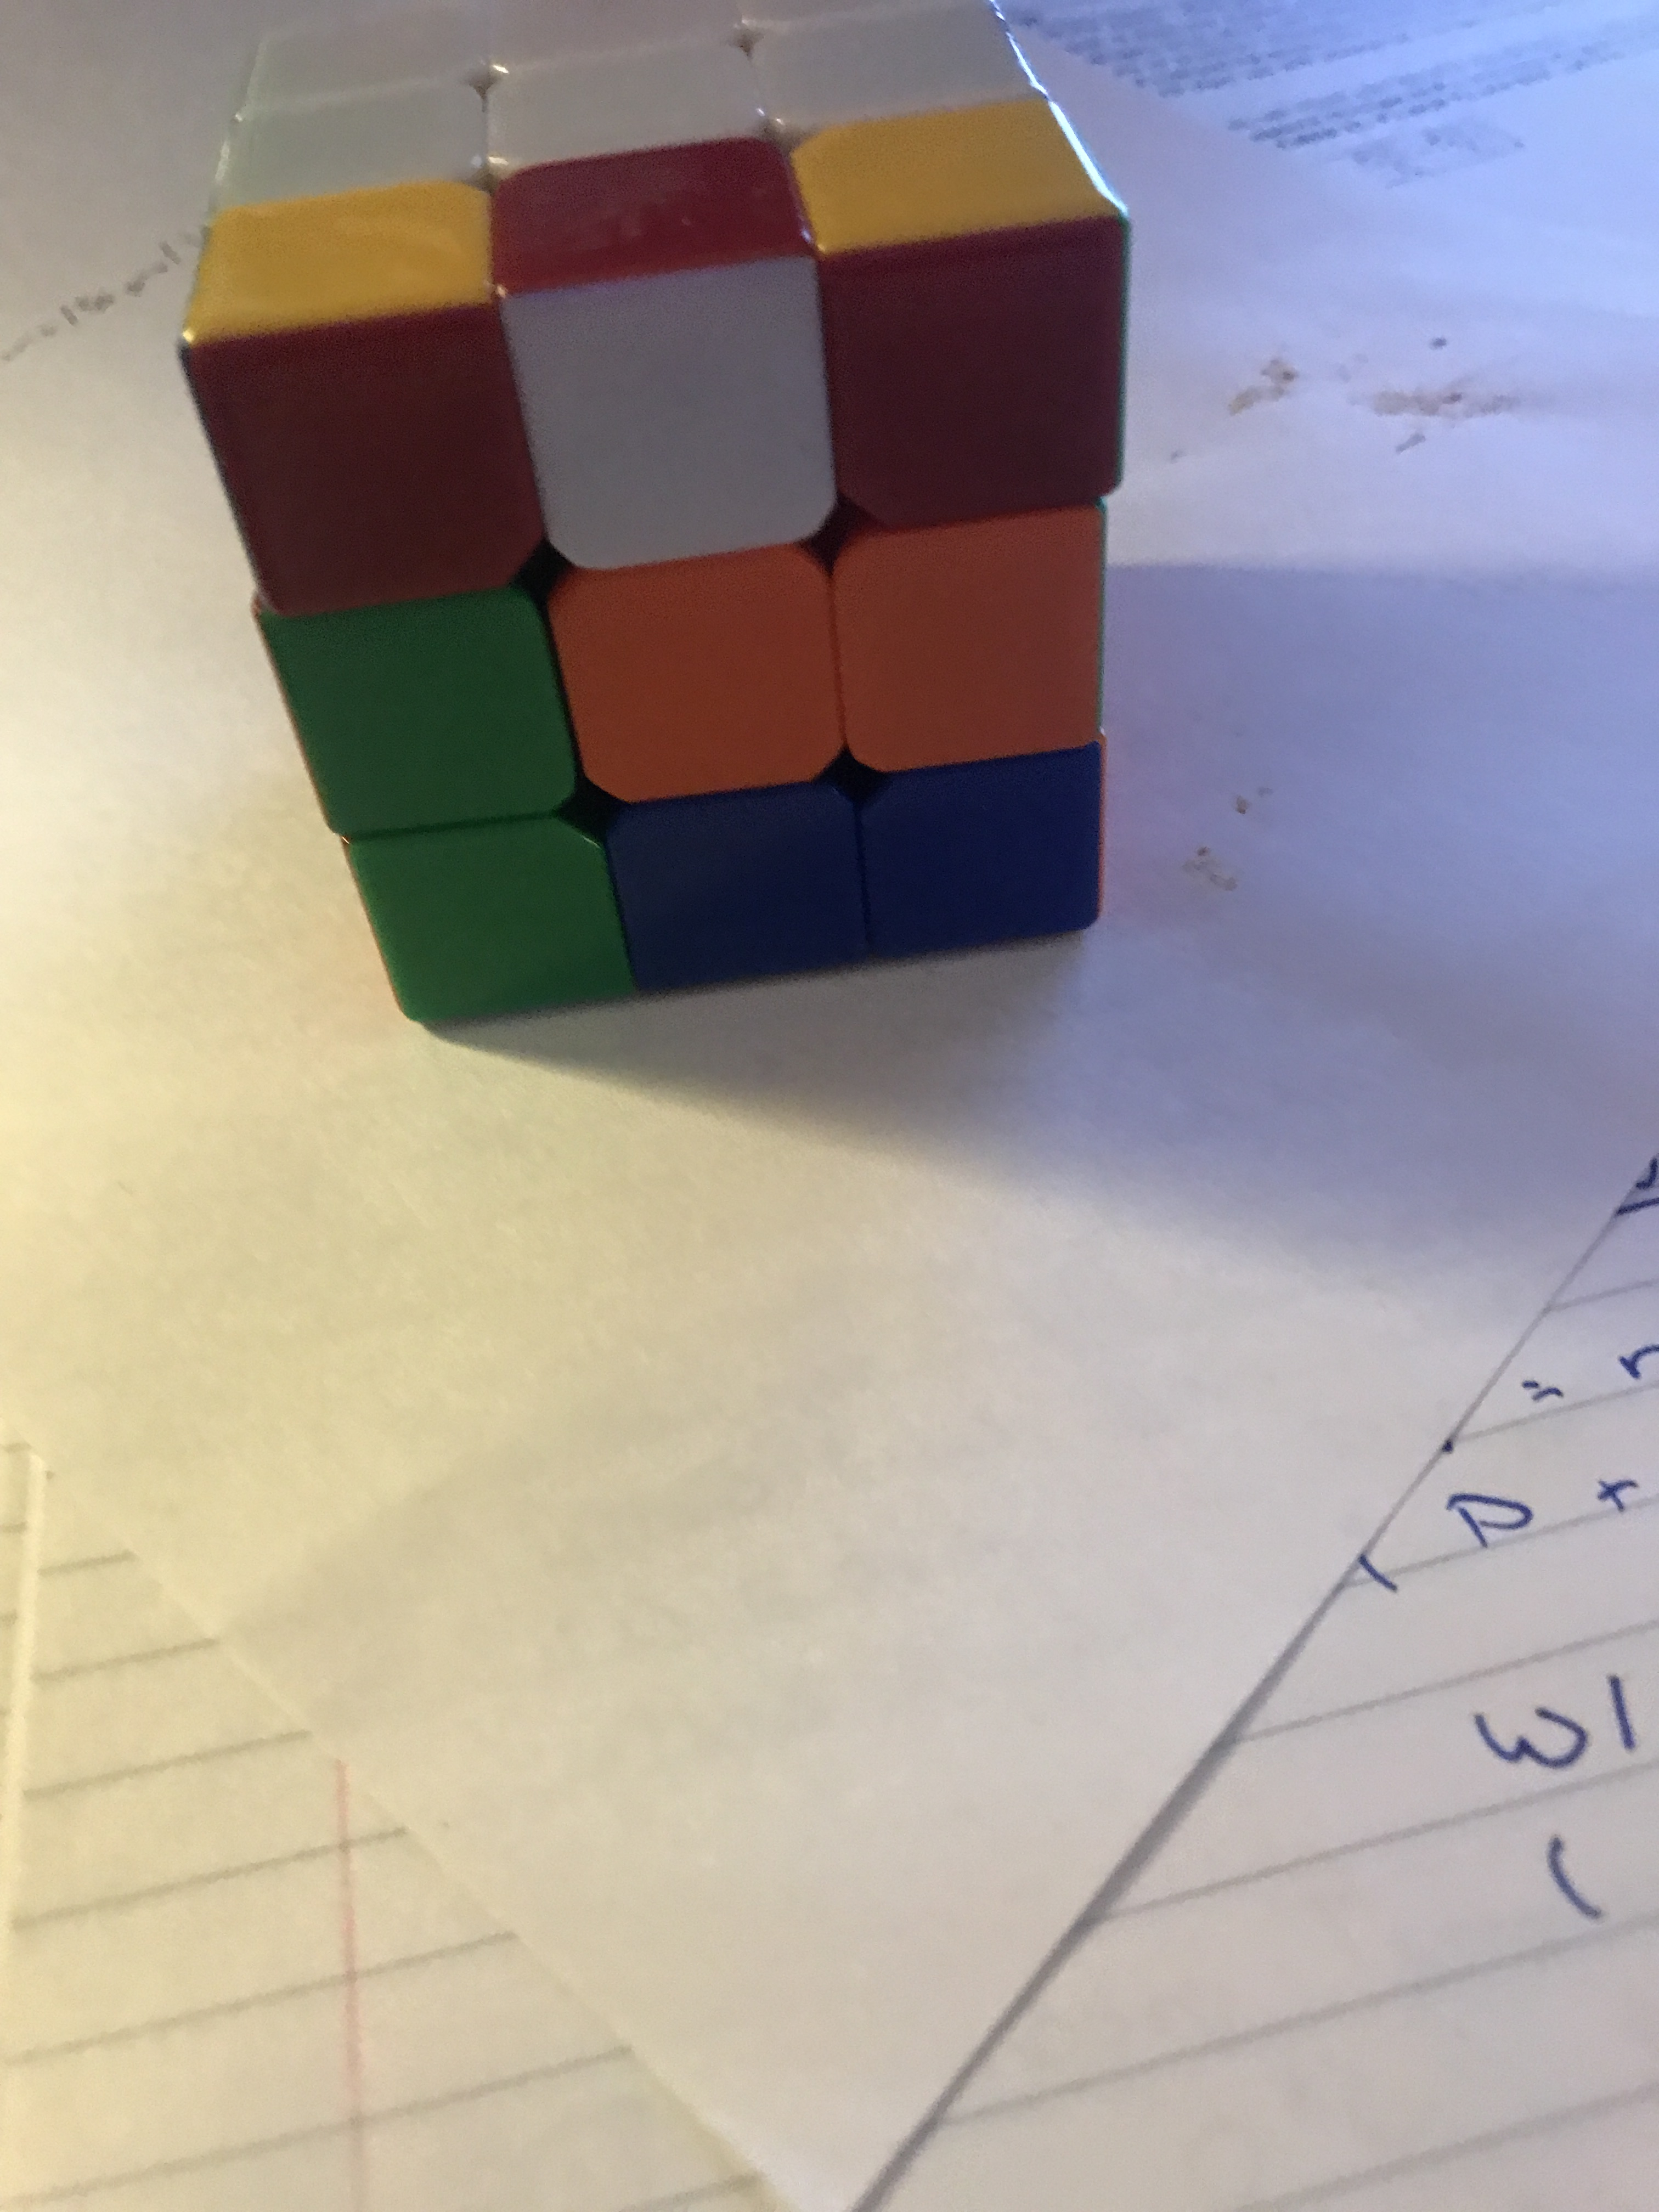rubiks: (171, 10, 1131, 1029)
